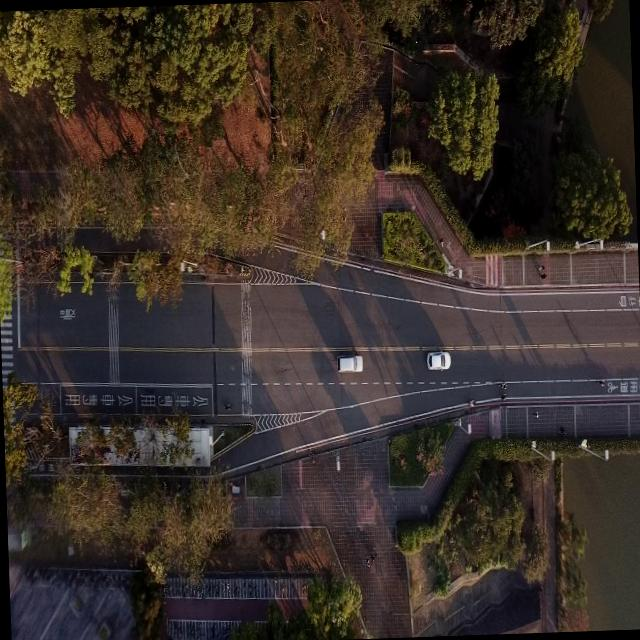car: (424, 348, 452, 372), (336, 350, 362, 372)
